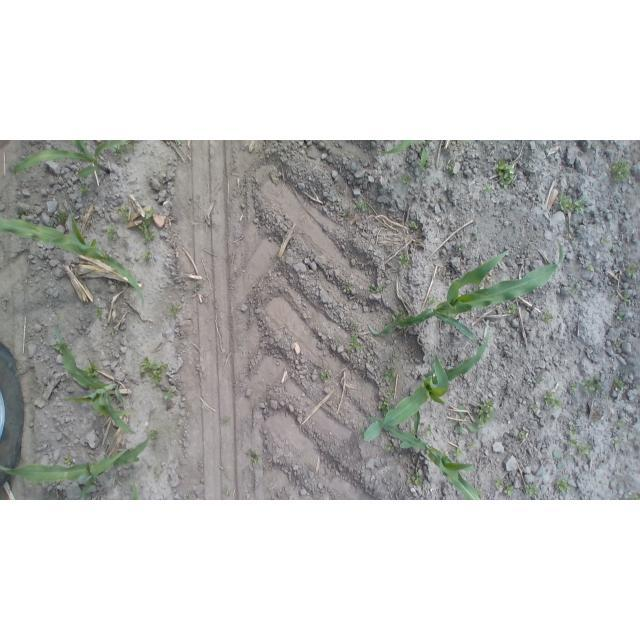Maize: (364, 236, 565, 338), (357, 323, 497, 443), (1, 206, 148, 306), (362, 412, 490, 500), (47, 325, 141, 439), (0, 431, 154, 500), (10, 140, 136, 181), (384, 140, 458, 170)
Weeds: (140, 357, 169, 387), (455, 407, 482, 436), (494, 157, 516, 189), (475, 397, 499, 425), (140, 206, 157, 244), (556, 193, 588, 213), (578, 374, 604, 395), (610, 158, 631, 183), (376, 387, 396, 413), (392, 304, 411, 322), (543, 392, 563, 409), (524, 480, 539, 499), (246, 448, 262, 465), (147, 427, 162, 444), (347, 335, 362, 352), (410, 469, 424, 487), (118, 205, 131, 224), (366, 283, 388, 294), (551, 449, 563, 469), (556, 479, 572, 494), (348, 318, 363, 334), (397, 252, 411, 269), (85, 363, 100, 378), (216, 413, 232, 427), (353, 199, 369, 213), (52, 212, 69, 225), (107, 223, 119, 241), (167, 302, 181, 317), (625, 262, 640, 276), (577, 443, 591, 458), (384, 368, 398, 383), (450, 239, 465, 253), (541, 310, 554, 326), (317, 369, 331, 382), (621, 491, 640, 500), (63, 454, 76, 467), (452, 447, 465, 460), (466, 442, 479, 454), (426, 293, 438, 306), (469, 227, 480, 241), (163, 388, 173, 403), (507, 305, 520, 316), (55, 342, 66, 354), (586, 262, 597, 274), (613, 378, 624, 390), (611, 436, 622, 448), (494, 479, 506, 490), (615, 310, 625, 323), (505, 485, 518, 495), (528, 403, 541, 413), (94, 304, 103, 318), (142, 251, 153, 262), (223, 487, 234, 498), (484, 184, 495, 195), (345, 283, 356, 294), (113, 145, 124, 156), (400, 174, 412, 184), (569, 426, 580, 436), (386, 441, 397, 451), (407, 221, 418, 231), (194, 281, 203, 293), (623, 292, 631, 305), (614, 338, 622, 351), (110, 327, 120, 337), (569, 439, 580, 448), (568, 451, 577, 462), (519, 430, 528, 441), (425, 425, 434, 436), (153, 471, 163, 480), (447, 164, 456, 174), (609, 291, 618, 301), (79, 184, 89, 193), (569, 381, 578, 390), (617, 419, 626, 428), (187, 492, 196, 500), (610, 246, 618, 255), (409, 428, 417, 437), (601, 237, 608, 246), (343, 208, 350, 217)
